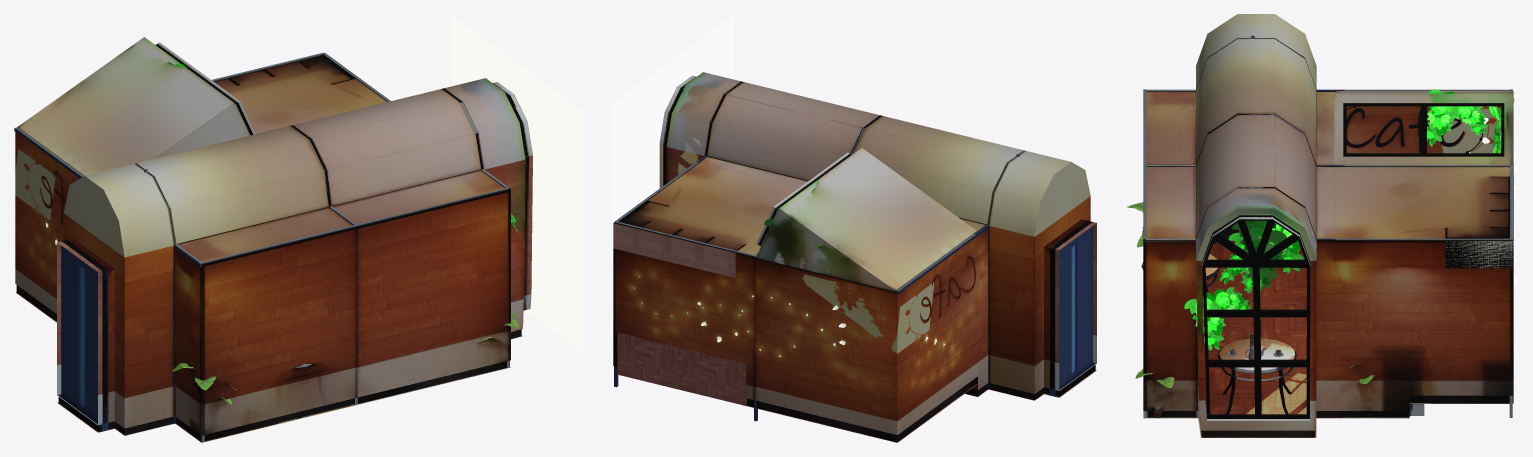
File: CozyCafe.glb
3 renders of one model, left to right at view 1: azimuth 30°, elevation 25°; view 2: azimuth 150°, elevation 25°; view 3: azimuth 270°, elevation 25°, orthographic. The views are drawn at different scales.
Visible parts, largest first — view 1: Building.002_14_31, Background_12_27, NoBakeStatic_15_33; view 2: Building.002_14_31, Background_12_27; view 3: Building.002_14_31, NoBakeStatic_15_33, Board.002_13_29.
Part boxes in pixels (x1,y1,x2,y2): Building.002_14_31: (14, 37, 532, 442); Background_12_27: (451, 15, 583, 351); NoBakeStatic_15_33: (46, 62, 518, 404); Building.002_14_31: (613, 72, 1096, 442); Background_12_27: (612, 14, 733, 324); Building.002_14_31: (1143, 14, 1513, 437); NoBakeStatic_15_33: (1127, 89, 1518, 417); Board.002_13_29: (1141, 35, 1344, 414).
Size of the model in its own units: 6.26 by 3.37 by 4.88.
Materials: 9 (8 with a texture image).
